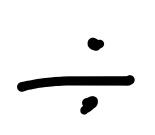div: (17, 38, 135, 115)
